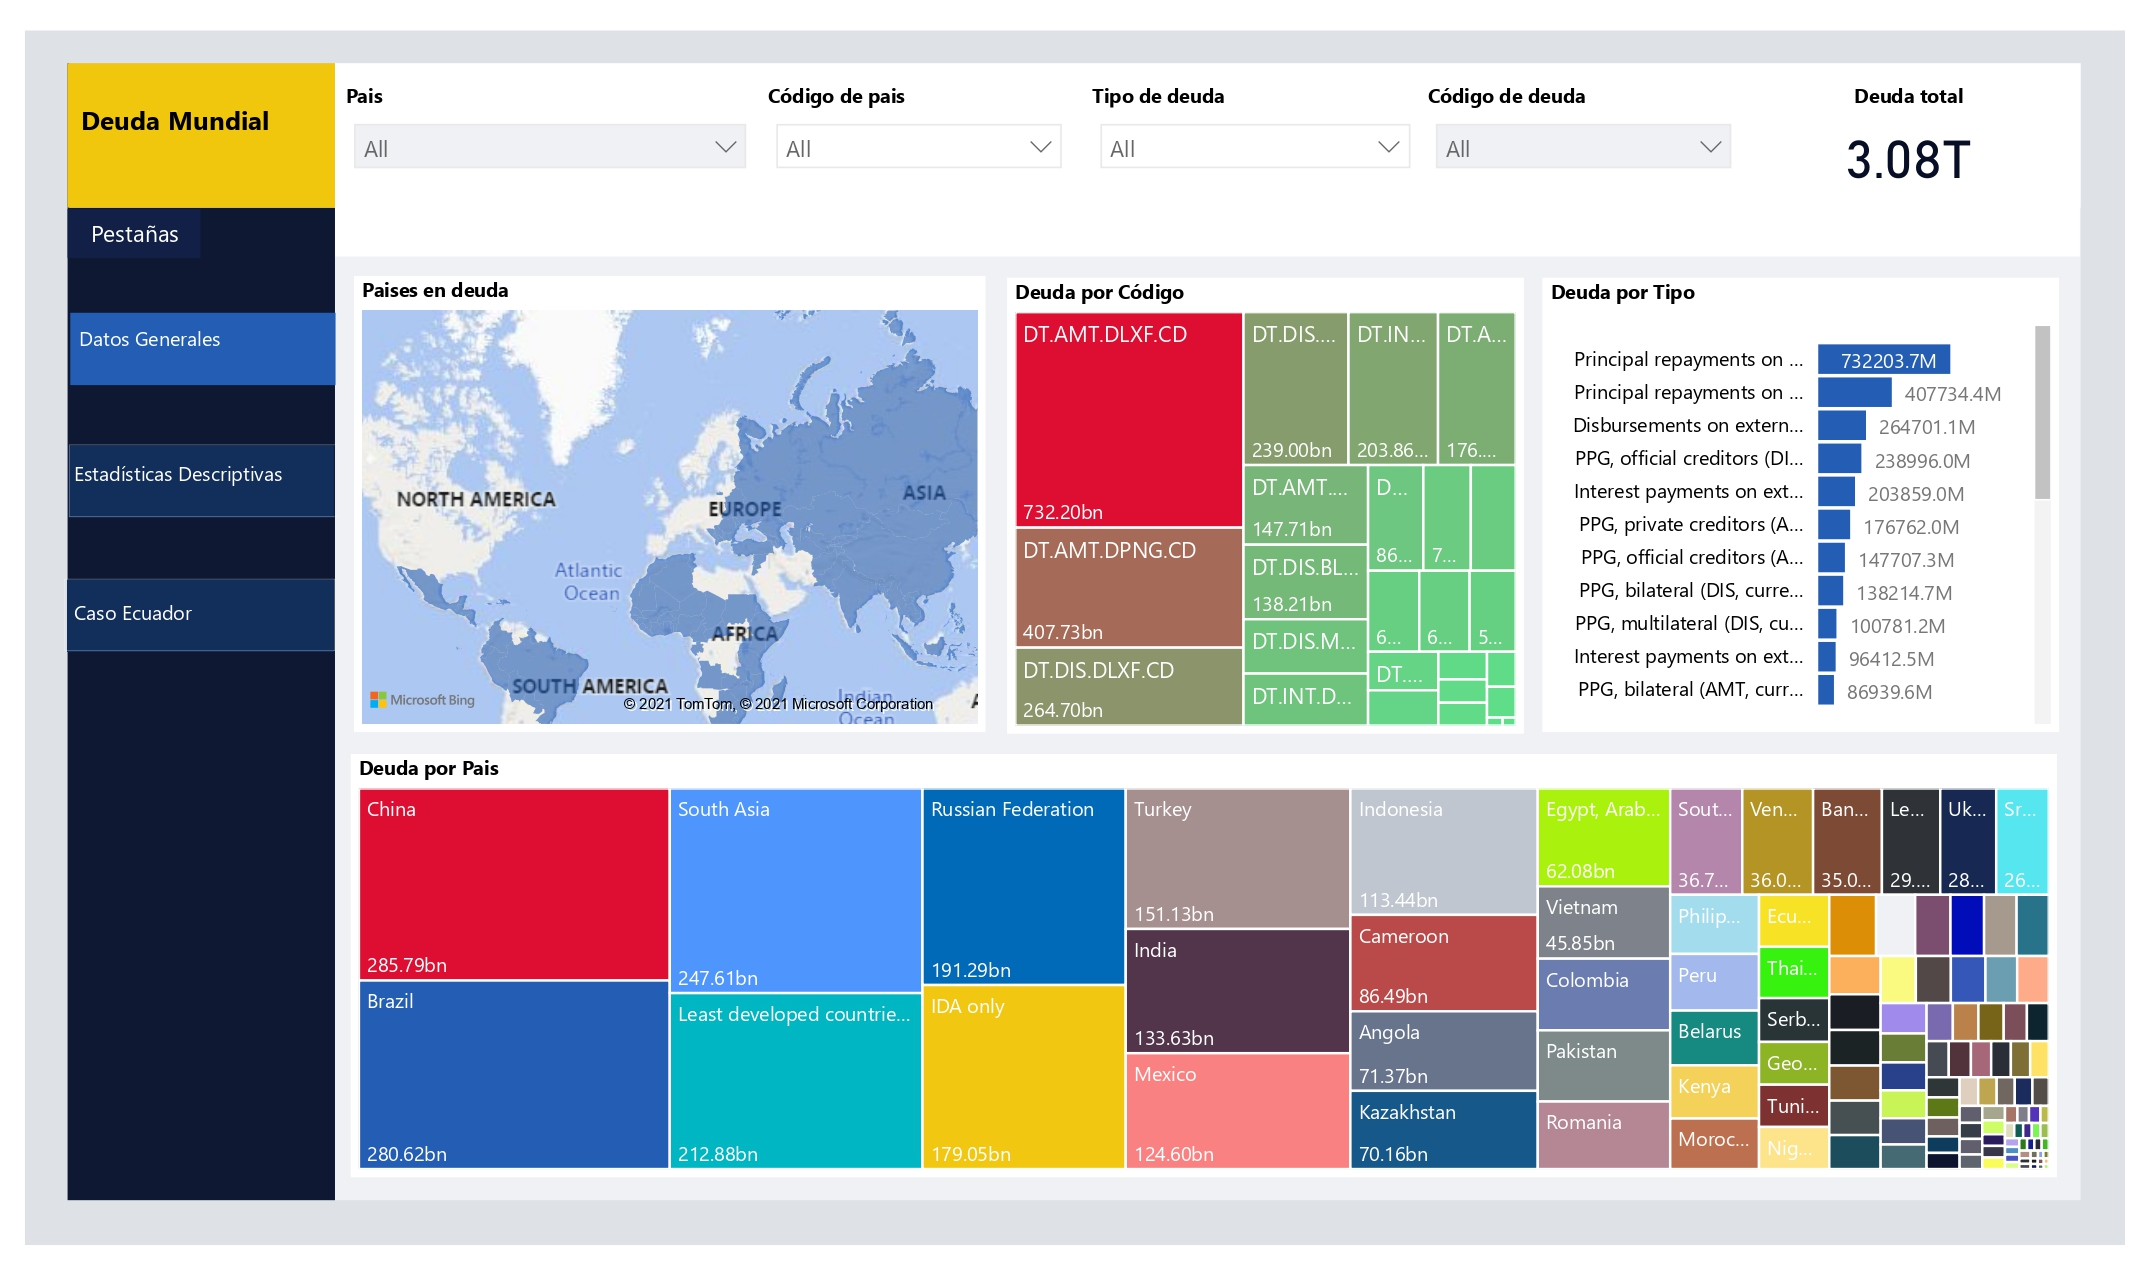

Layout of this report page (visuals, bound fields, positions):
{"tool":"powerbi","page":{"name":"Deuda Mundial","canvas":[1280,720],"ordinal":0},"visuals":[{"type":"basicShape","title":"(0) Main Background","box":[26,0,1227,693],"z":0},{"type":"basicShape","title":"(0) Title Area","box":[187.4,87.2,1065.3,30.6],"z":1000},{"type":"basicShape","title":"(0) Pane Area","box":[26,0,163.4,693.2],"z":2000},{"type":"basicShape","title":"(0) Filter Area","box":[27.1,0,1225.5,87.9],"z":3000},{"type":"basicShape","title":"(2) Pages - Bg Selected","box":[25.5,88.4,80.6,30.5],"z":4000},{"type":"basicShape","title":"(2) Pages 1 - Click","box":[25.5,151.3,165,45.2],"z":8000},{"type":"basicShape","title":"(0) Logo Area","box":[26,0,163,88],"z":10000},{"type":"textbox","title":"(2) Pages - Select TXT","box":[24.6,88.4,84.5,36.3],"z":11000},{"type":"textbox","box":[28.8,18.9,158.6,65.8],"z":16000},{"type":"filledMap","title":"Paises en deuda","fields":{"Category":["international_debt.country_name"]},"box":[200.4,129.5,385.1,277.5],"z":17000},{"type":"treemap","title":"Deuda por Código","fields":{"Values":["Sum(international_debt.debt)"],"Group":["international_debt.indicator_code"]},"box":[598.2,131,314.5,277.5],"z":18000},{"type":"treemap","title":"Deuda por Pais","fields":{"Values":["Sum(international_debt.debt)"],"Group":["international_debt.country_name"]},"box":[198.8,420.9,1039.7,258.2],"z":19000},{"type":"clusteredBarChart","title":"Deuda por Tipo","fields":{"Y":["Sum(international_debt.debt)"],"Category":["international_debt.indicator_name"]},"box":[925,130.8,314.6,277.2],"z":20000},{"type":"slicer","title":"Código de pais","fields":{"Values":["international_debt.country_code"]},"box":[447.6,10.7,194.2,104.2],"z":21000},{"type":"slicer","title":"Tipo de deuda","fields":{"Values":["international_debt.indicator_name"]},"box":[645.4,10.7,208.6,103],"z":22000},{"type":"slicer","title":"Código de deuda","fields":{"Values":["international_debt.indicator_code"]},"box":[850.1,10.7,200.3,86.4],"z":23000},{"type":"slicer","title":"Pais","fields":{"Values":["international_debt.country_name"]},"box":[190.7,10.7,259.3,86.4],"z":24000},{"type":"card","title":"Deuda total","fields":{"Values":["Sum(international_debt.debt)"]},"box":[1043.3,10.8,209.2,95.3],"z":25000},{"type":"textbox","title":"(2) Pages 1 - TXT 1","box":[27.5,152.3,161.1,43.2],"z":26000},{"type":"basicShape","title":"(2) Pages 1 - Click","box":[24.6,232.8,165,45.2],"z":27000},{"type":"textbox","title":"(2) Pages 1 - TXT 1","box":[24.6,234.8,161.1,43.2],"z":28000},{"type":"basicShape","title":"(2) Pages 1 - Click","box":[24.4,314.5,165.8,45.1],"z":29000},{"type":"textbox","title":"(2) Pages 1 - TXT 1","box":[25.3,319,146,40.6],"z":30000},{"type":"actionButton","box":[26.9,232.5,163.6,43.9],"z":30001},{"type":"actionButton","box":[23.9,314.3,164.6,43.9],"z":30002}]}

Visuals, with their boxes on the page's 1280x720 design canvas (x1, y1, x2, y2). These are canvas units, not pixel positions in the 2150x1275 screenshot, which may show the page scaled, cropped or inside an application window:
"(0) Main Background" basicShape: x1=26, y1=0, x2=1253, y2=693
"(0) Title Area" basicShape: x1=187, y1=87, x2=1253, y2=118
"(0) Pane Area" basicShape: x1=26, y1=0, x2=189, y2=693
"(0) Filter Area" basicShape: x1=27, y1=0, x2=1253, y2=88
"(2) Pages - Bg Selected" basicShape: x1=26, y1=88, x2=106, y2=119
"(2) Pages 1 - Click" basicShape: x1=26, y1=151, x2=190, y2=196
"(0) Logo Area" basicShape: x1=26, y1=0, x2=189, y2=88
"(2) Pages - Select TXT" textbox: x1=25, y1=88, x2=109, y2=125
textbox: x1=29, y1=19, x2=187, y2=85
"Paises en deuda" filledMap: x1=200, y1=130, x2=586, y2=407
"Deuda por Código" treemap: x1=598, y1=131, x2=913, y2=408
"Deuda por Pais" treemap: x1=199, y1=421, x2=1238, y2=679
"Deuda por Tipo" clusteredBarChart: x1=925, y1=131, x2=1240, y2=408
"Código de pais" slicer: x1=448, y1=11, x2=642, y2=115
"Tipo de deuda" slicer: x1=645, y1=11, x2=854, y2=114
"Código de deuda" slicer: x1=850, y1=11, x2=1050, y2=97
"Pais" slicer: x1=191, y1=11, x2=450, y2=97
"Deuda total" card: x1=1043, y1=11, x2=1252, y2=106
"(2) Pages 1 - TXT 1" textbox: x1=28, y1=152, x2=189, y2=196
"(2) Pages 1 - Click" basicShape: x1=25, y1=233, x2=190, y2=278
"(2) Pages 1 - TXT 1" textbox: x1=25, y1=235, x2=186, y2=278
"(2) Pages 1 - Click" basicShape: x1=24, y1=314, x2=190, y2=360
"(2) Pages 1 - TXT 1" textbox: x1=25, y1=319, x2=171, y2=360
actionButton: x1=27, y1=232, x2=190, y2=276
actionButton: x1=24, y1=314, x2=188, y2=358
